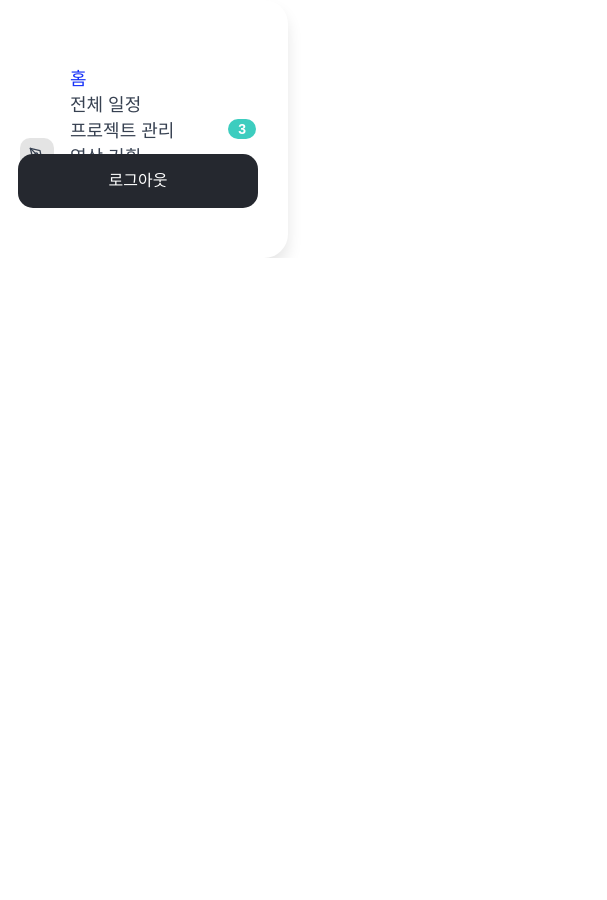
it: 사이드바-서브메뉴 통합 테스트 › 메뉴 클릭 상호작용 › 프로젝트 관리 메뉴 클릭 시 서브메뉴가 열려야 함
Note: 프로젝트 관리 메뉴 클릭
Click the button "프로젝트 관리 3". click: click(138, 129)
box: [20, 116, 256, 142]
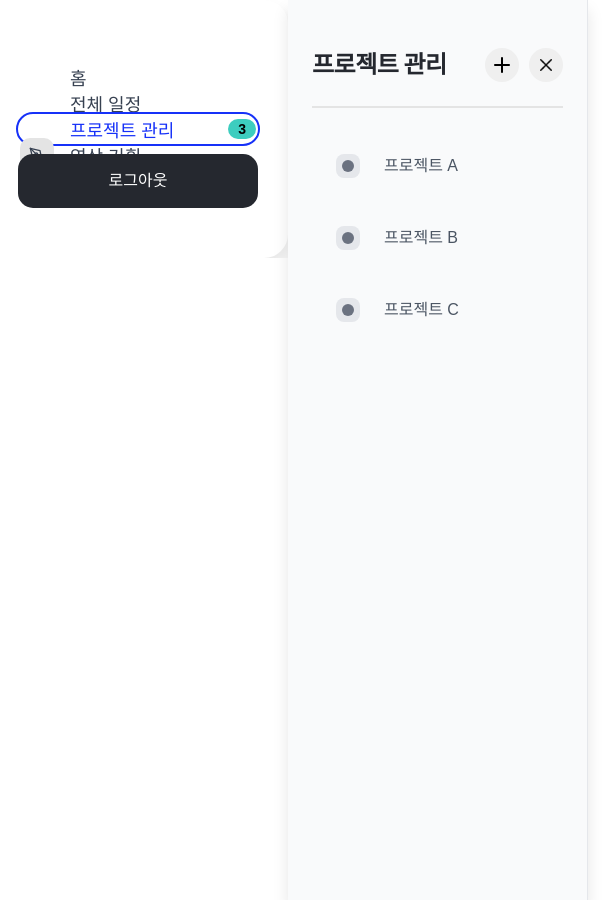
Expected: the button "프로젝트 A" is shown, [312, 138, 563, 194]
Expected: the button "프로젝트 B" is shown, [312, 210, 563, 266]
Expected: the button "프로젝트 C" is shown, [312, 282, 563, 338]
